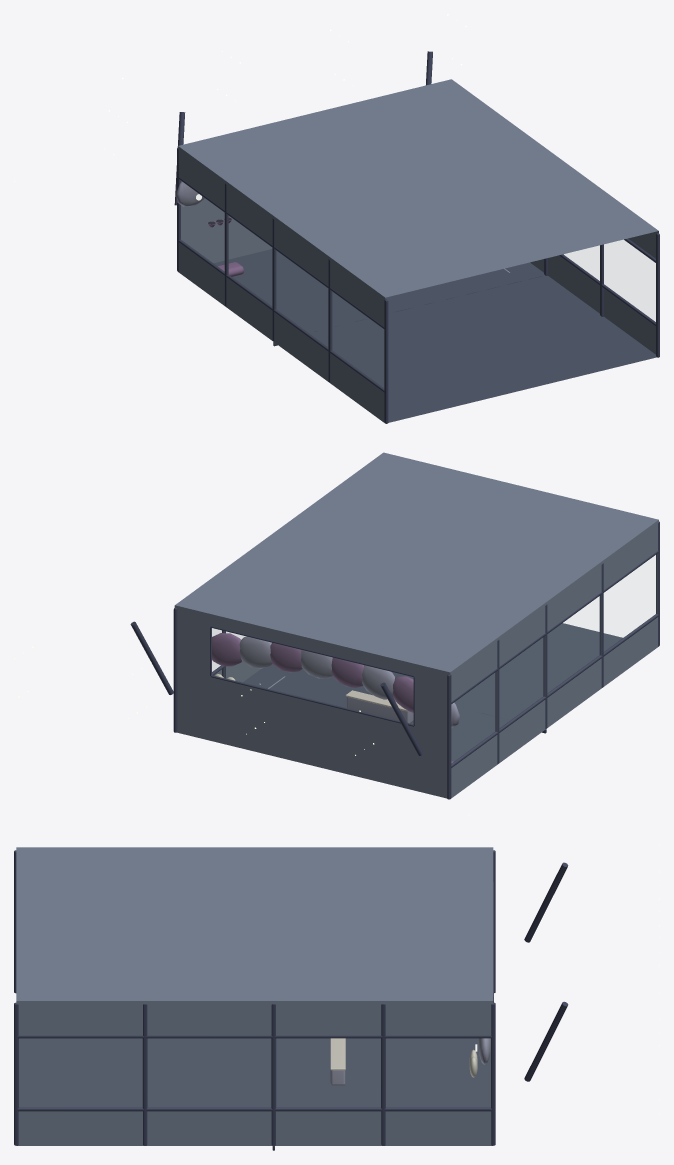
Rendered from cantina.glb.
3 renders of one model, top to bottom at view 1: azimuth 30°, elevation 25°; view 2: azimuth 150°, elevation 25°; view 3: azimuth 270°, elevation 25°, orthographic. The views are drawn at different scales.
Visible parts, largest first — view 1: Roof panels - Wall, Floor extension - Floor, Port wall - Wall, Floor - Floor, Port wall - Rib, Starboard wall - Wall, Rear bulkhead - Wall, Starboard wall - Rib; view 2: Roof panels - Wall, Rear bulkhead - Wall, Port wall - Wall, Floor extension - Floor, Port wall - Rib, Floor - Floor, Signature architecture - Soft, Signature architecture - Secondary, Rear bulkhead - Rib, Outside the glazing - Rib, Starboard wall - Rib, Counter - Secondary; view 3: Roof panels - Wall, Starboard wall - Wall, Floor extension - Floor, Floor - Floor, Starboard wall - Rib, Outside the glazing - Rib, Port wall - Rib, Counter - Pale.
Boxes of the visible parts, x1,y1,x2,y2 form: Roof panels - Wall: (178, 79, 658, 297); Floor extension - Floor: (309, 275, 656, 422); Port wall - Wall: (178, 146, 385, 422); Floor - Floor: (214, 249, 544, 332); Port wall - Rib: (177, 148, 388, 423); Starboard wall - Wall: (530, 231, 658, 354); Rear bulkhead - Wall: (181, 181, 272, 263); Starboard wall - Rib: (544, 233, 659, 357); Roof panels - Wall: (175, 452, 658, 672); Rear bulkhead - Wall: (174, 605, 450, 798); Port wall - Wall: (450, 520, 658, 798); Floor extension - Floor: (302, 623, 622, 720); Port wall - Rib: (447, 521, 659, 799); Floor - Floor: (243, 664, 510, 761); Signature architecture - Soft: (212, 633, 453, 763); Signature architecture - Secondary: (239, 636, 459, 728); Rear bulkhead - Rib: (210, 626, 414, 726); Outside the glazing - Rib: (130, 621, 423, 755); Starboard wall - Rib: (173, 607, 225, 732); Counter - Secondary: (346, 697, 413, 723); Roof panels - Wall: (16, 847, 493, 1000); Starboard wall - Wall: (16, 1001, 493, 1145); Floor extension - Floor: (19, 1038, 271, 1107); Floor - Floor: (276, 1038, 490, 1107); Starboard wall - Rib: (14, 1002, 495, 1145); Outside the glazing - Rib: (524, 862, 568, 1081); Port wall - Rib: (14, 850, 495, 993); Counter - Pale: (330, 1038, 345, 1070).
Bounding box in the file's own units: 31.75 × 9.65 × 34.14.
